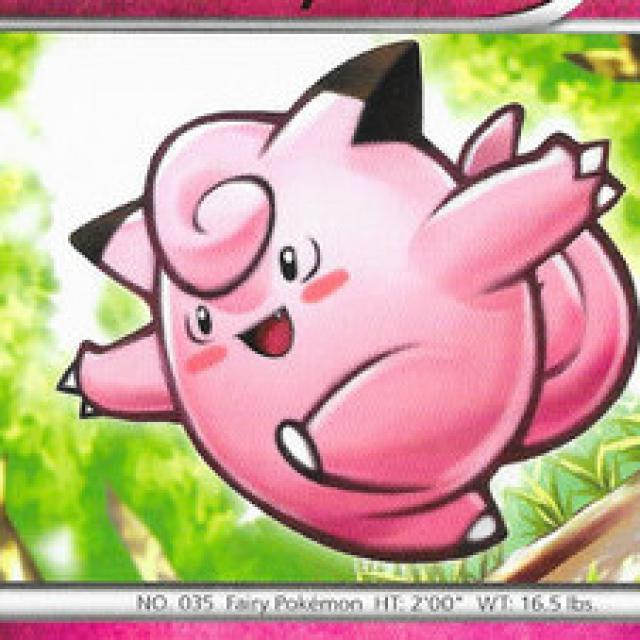Clefairy: (92, 83, 591, 545)
